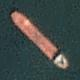ship: (0, 0, 32, 35)
